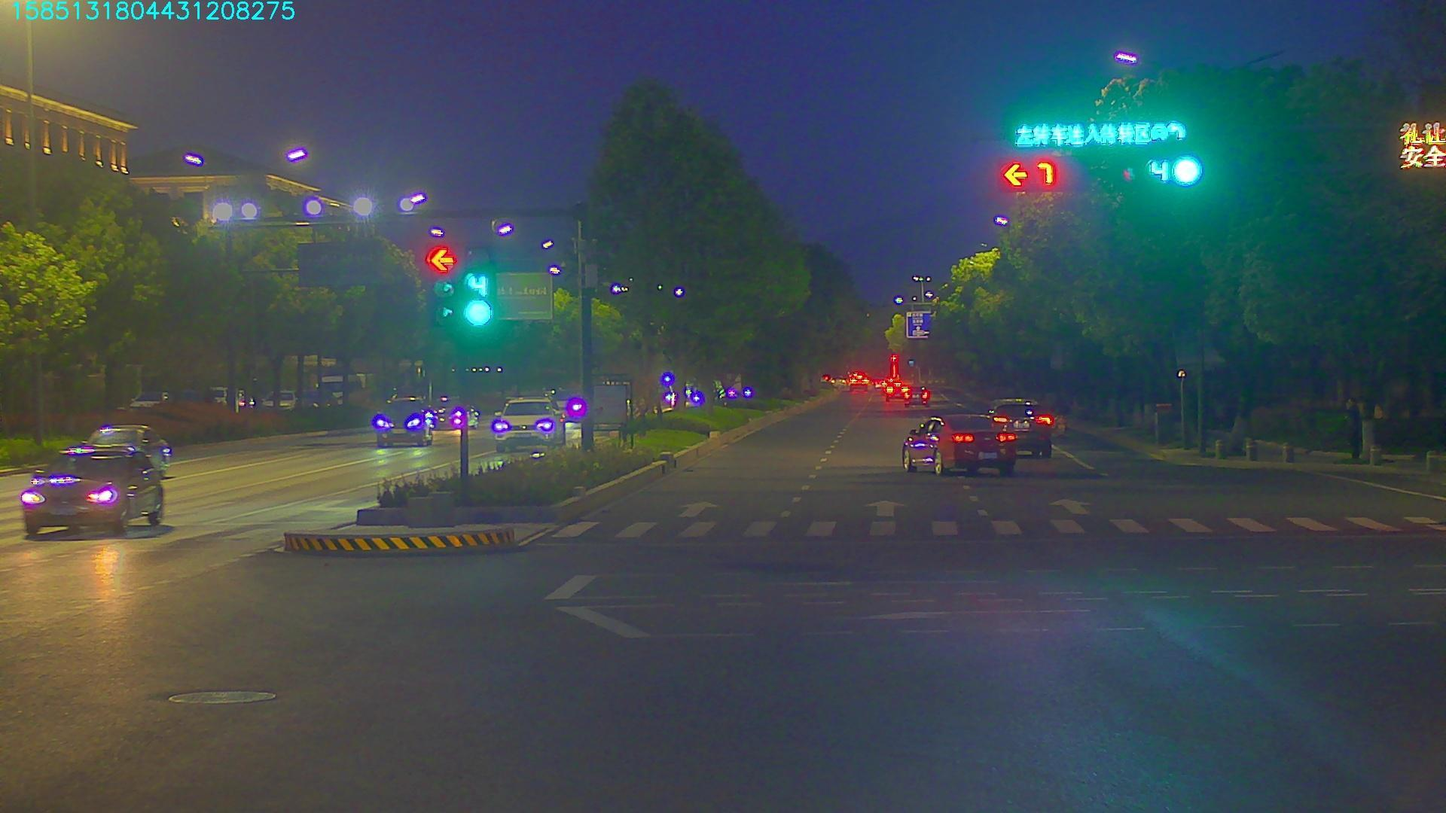green: (1145, 149, 1204, 190)
red: (999, 157, 1060, 186)
wait_on: (1008, 111, 1189, 142)
